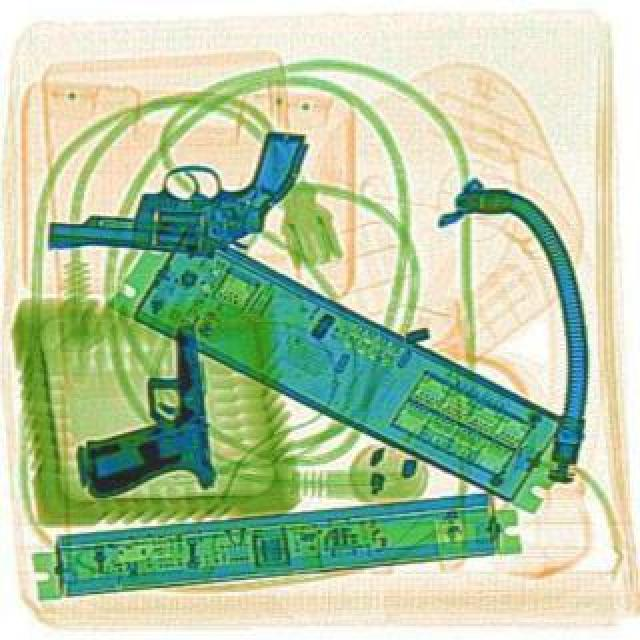gun: (46, 120, 306, 252), (60, 322, 212, 498)
